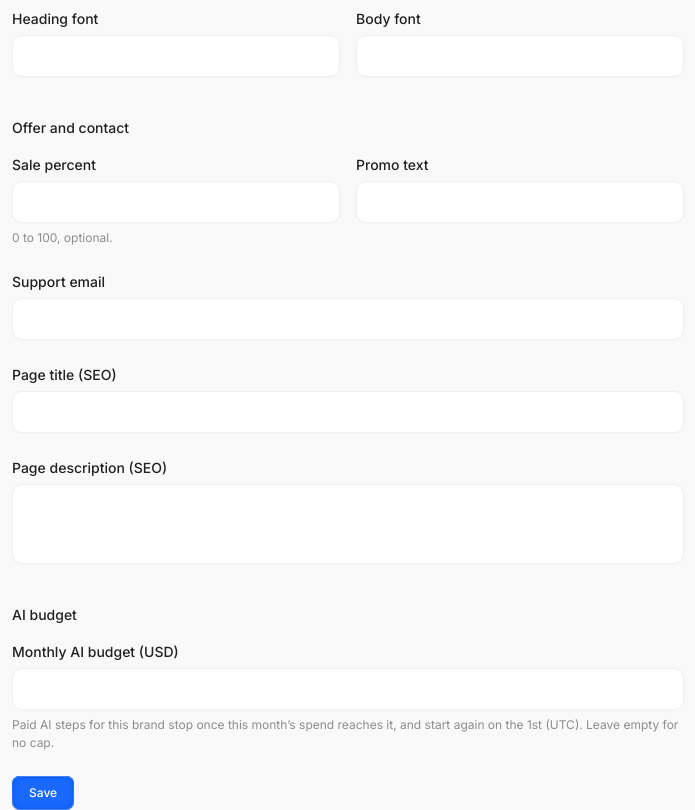
Test: BrandForm › shows a server-side error on its field
(page scrolled)
Click the button "Save" at [43, 793], box top-left (12, 776), bottom-right (74, 809)
(page scrolled)
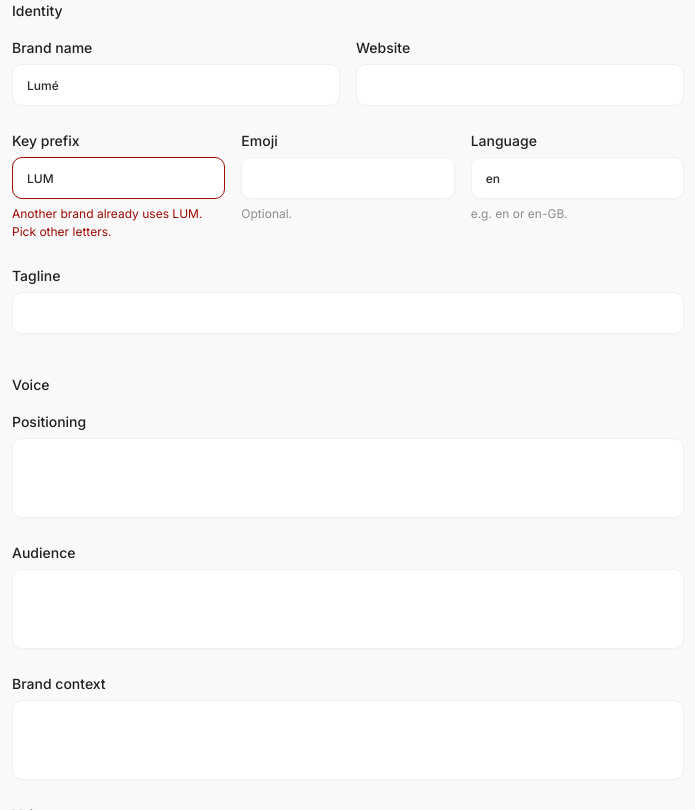
Result: the text "Another brand already uses LUM. Pick other letters." is shown at top-left (12, 205), bottom-right (225, 241)
